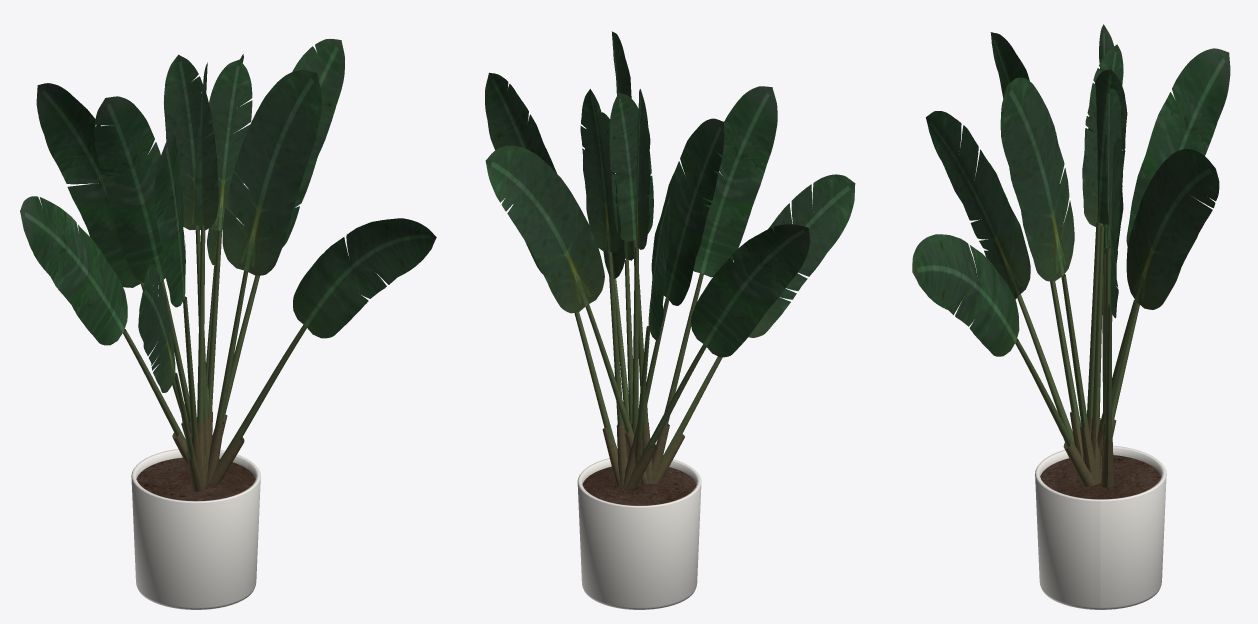
File: strelitzia_180.glb
3 renders of one model, left to right at view 1: azimuth 30°, elevation 25°; view 2: azimuth 150°, elevation 25°; view 3: azimuth 270°, elevation 25°, orthographic. The views are drawn at different scales.
Parts seen in each view (by area): view 1: strelitzia_180; view 2: strelitzia_180; view 3: strelitzia_180.
Boxes of the visible parts, x1,y1,x2,y2 form: strelitzia_180: (20, 39, 436, 609); strelitzia_180: (485, 31, 855, 609); strelitzia_180: (912, 24, 1230, 609).
Size of the model in its own units: 1.22 by 1.8 by 1.
Materials: 3 (2 with a texture image).
